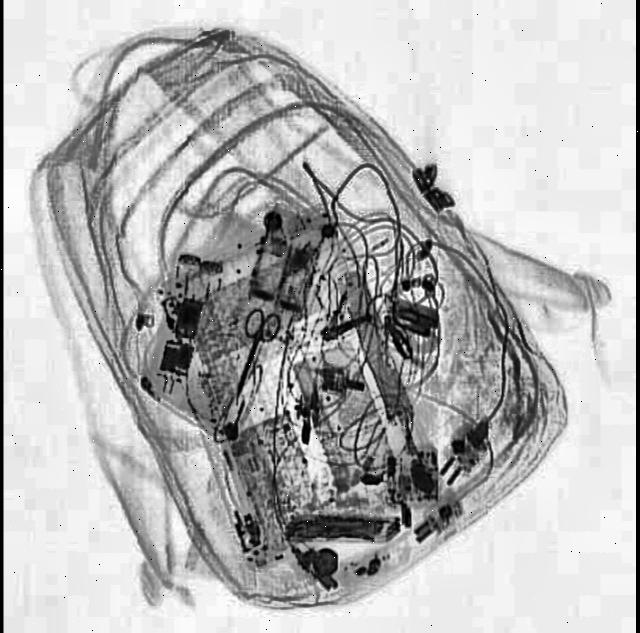Scissors: (218, 305, 281, 408)
